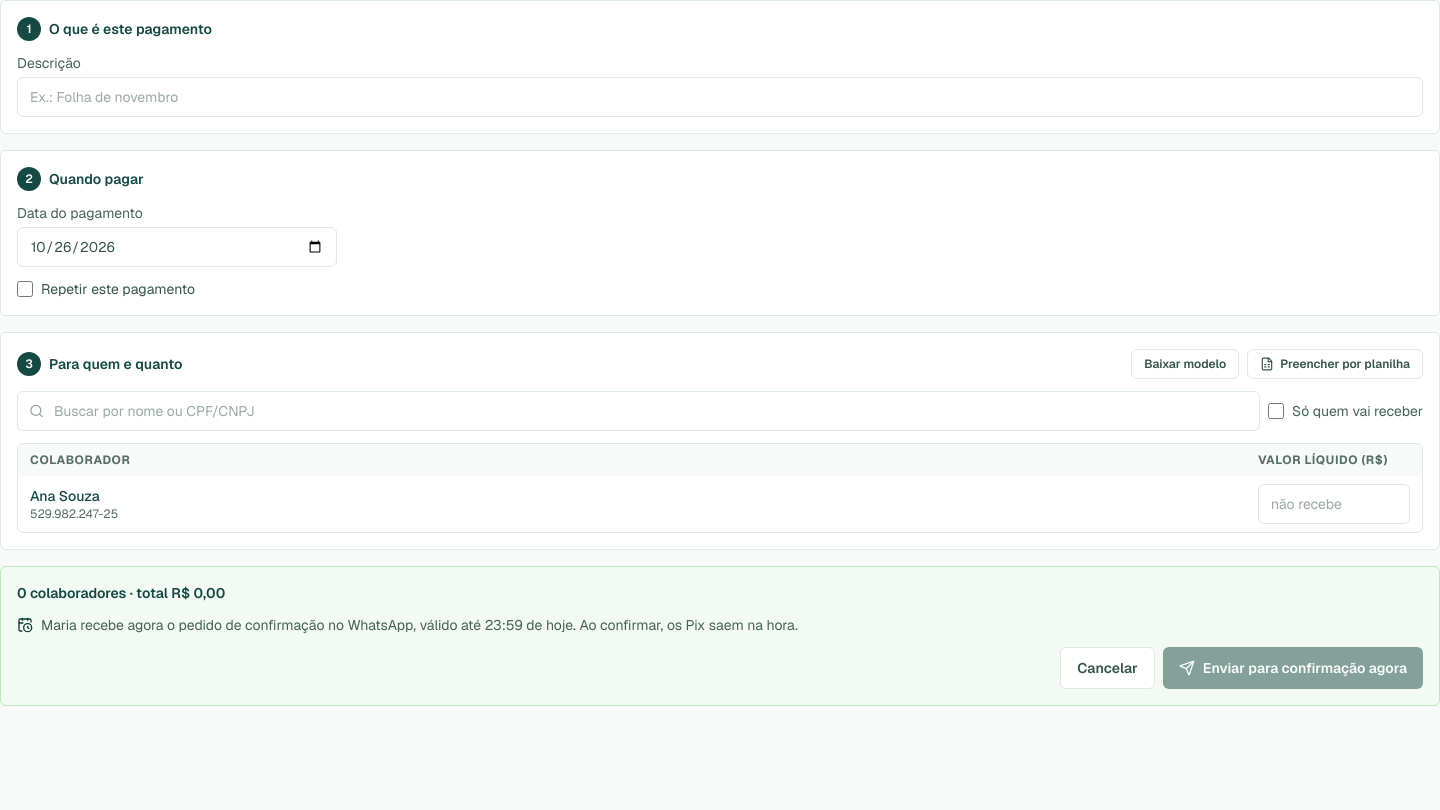
Scenario: BatchEditor › an invalid amount blocks saving
This screenshot has width=1440, height=810.
In the field named "Valor de Ana Souza": (1334, 504) [1258,484,1410,524], type "mil"
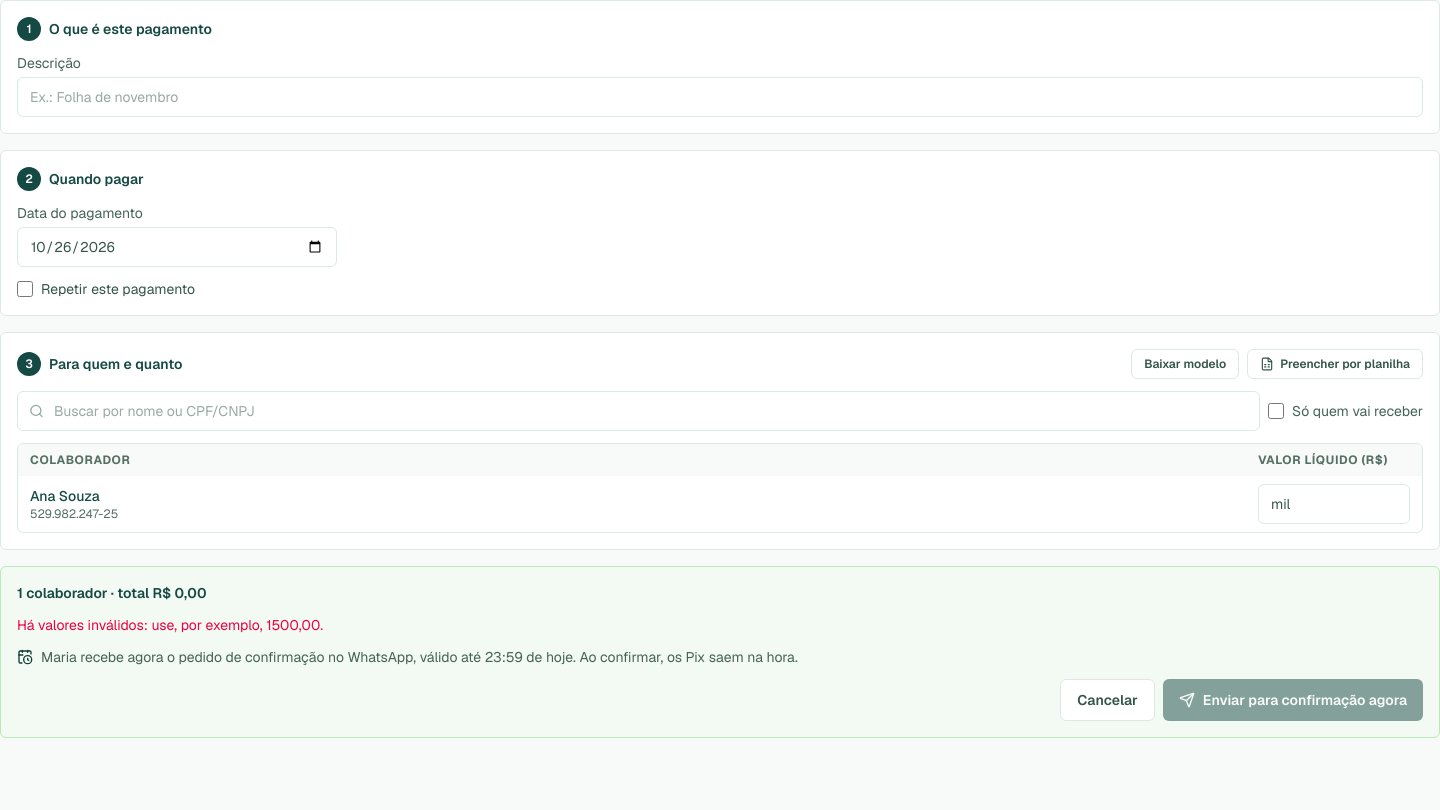
Expected: the button "Enviar para confirmação agora" is disabled, [1163,679,1423,721]
Now the text "Há valores inválidos: use, por exemplo, 1500,00." is shown, box [17,616,323,634]
